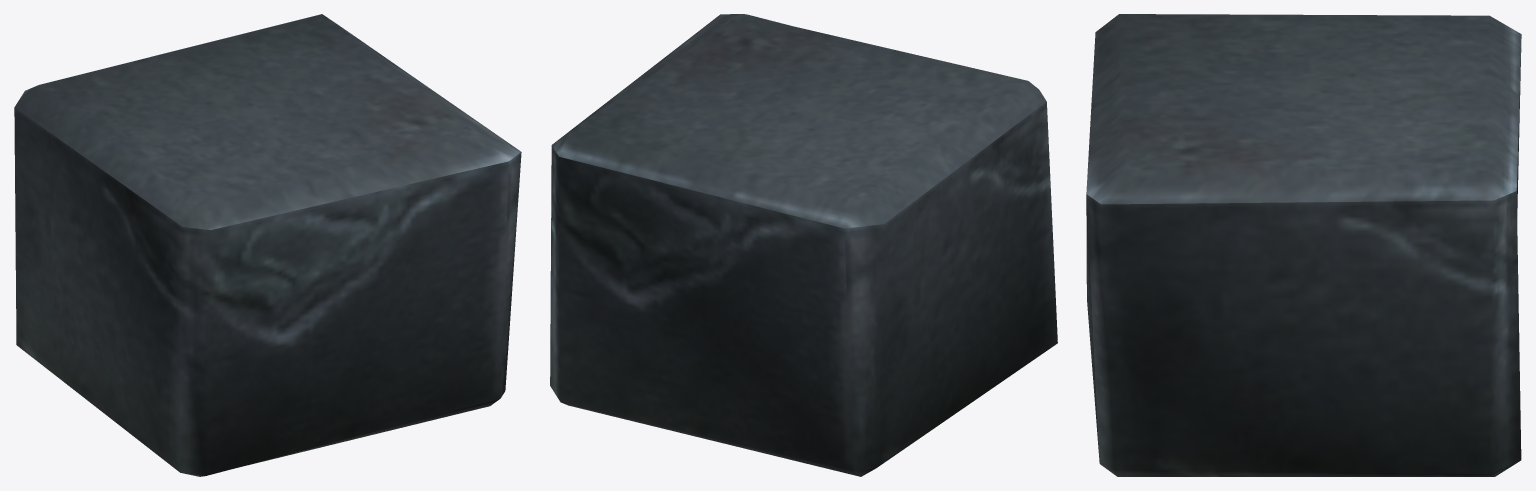
Rendered from B_shikuai007.fbx.
3 renders of one model, left to right at view 1: azimuth 30°, elevation 25°; view 2: azimuth 150°, elevation 25°; view 3: azimuth 270°, elevation 25°, orthographic. The views are drawn at different scales.
Parts seen in each view (by area): view 1: B_shikuai007; view 2: B_shikuai007; view 3: B_shikuai007.
Boxes of the visible parts, x1,y1,x2,y2 form: B_shikuai007: [14, 14, 521, 476]; B_shikuai007: [550, 14, 1057, 476]; B_shikuai007: [1086, 14, 1521, 476].
Size of the model in its own units: 55.77 by 42.6 by 55.26.
